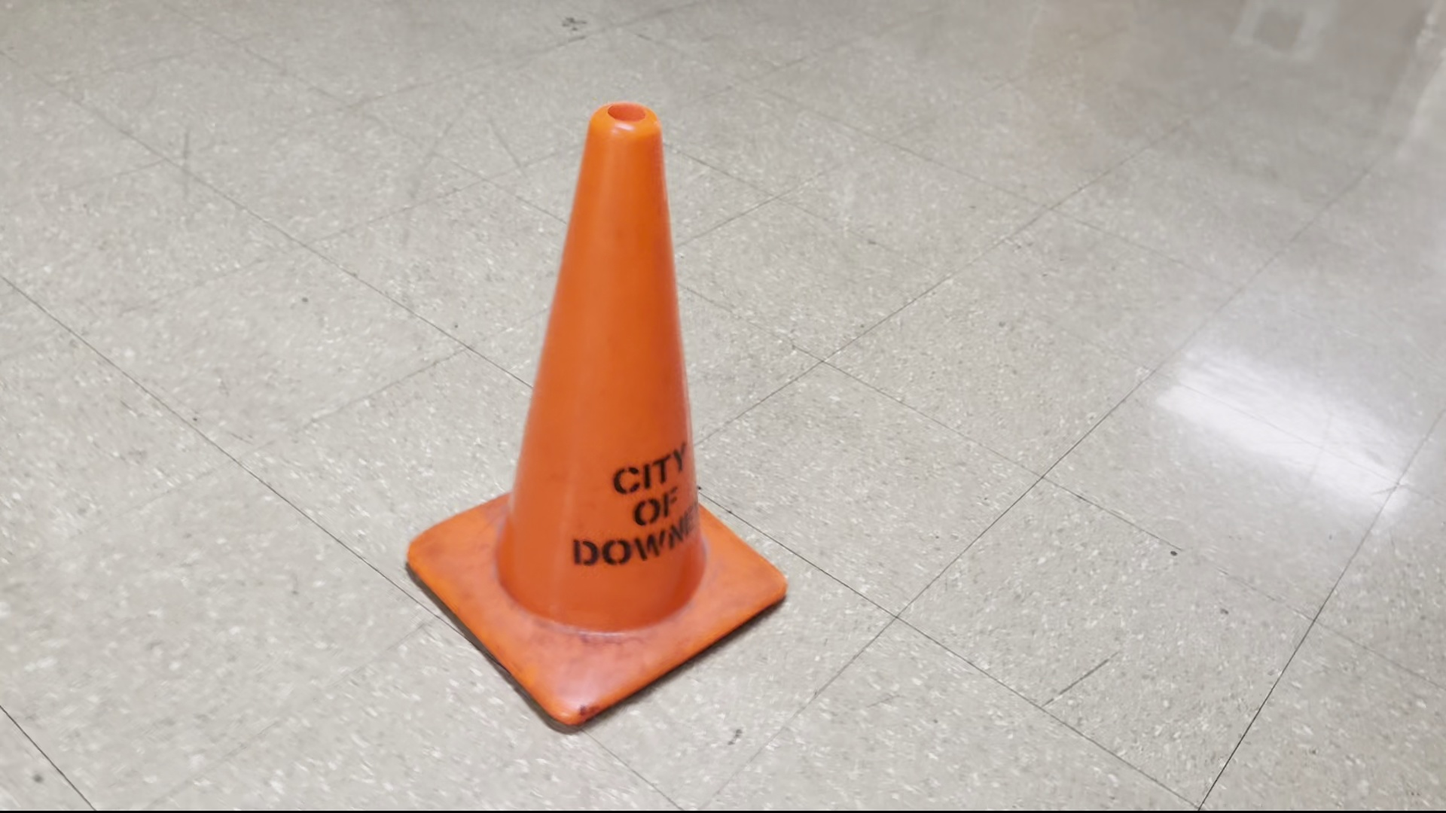traffic_cone: (404, 100, 789, 730)
